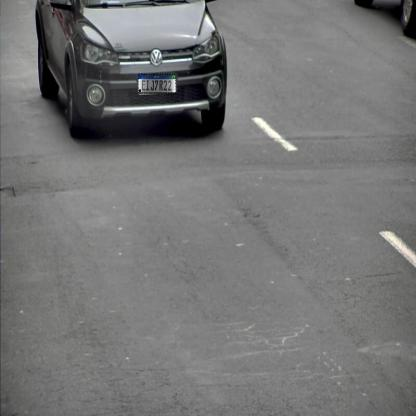PlacaM: (138, 74, 176, 94)
